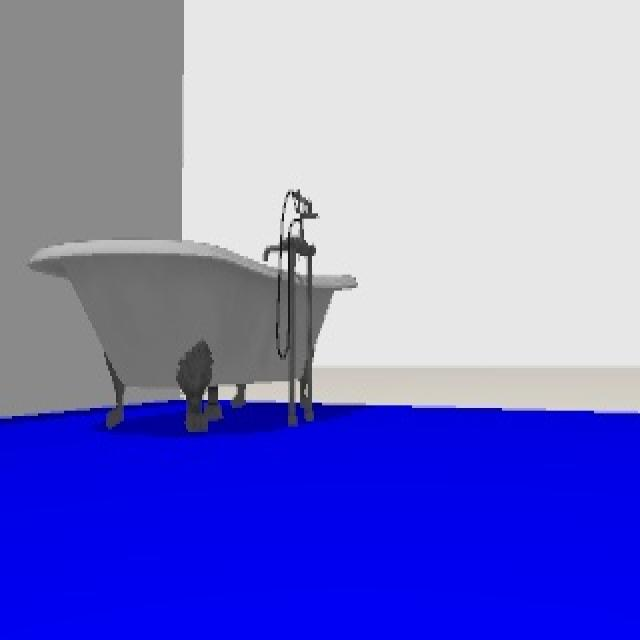bathtub: (27, 186, 359, 433)
